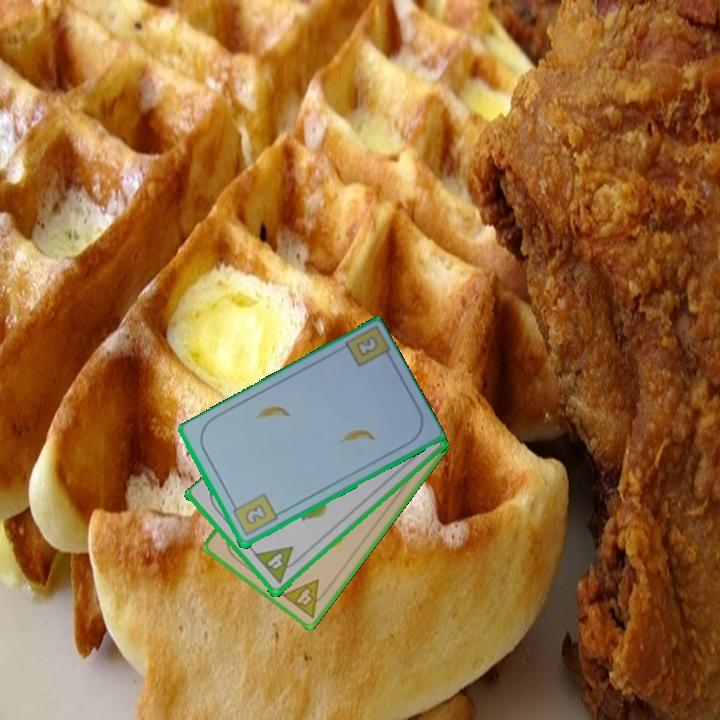2b: (228, 490, 280, 539), (352, 333, 381, 360)
4p: (278, 576, 333, 621), (251, 543, 304, 587)
